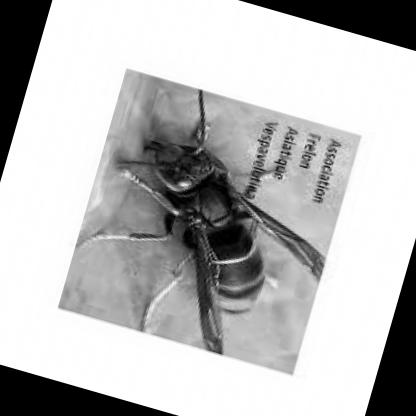asian: (61, 85, 342, 371)
